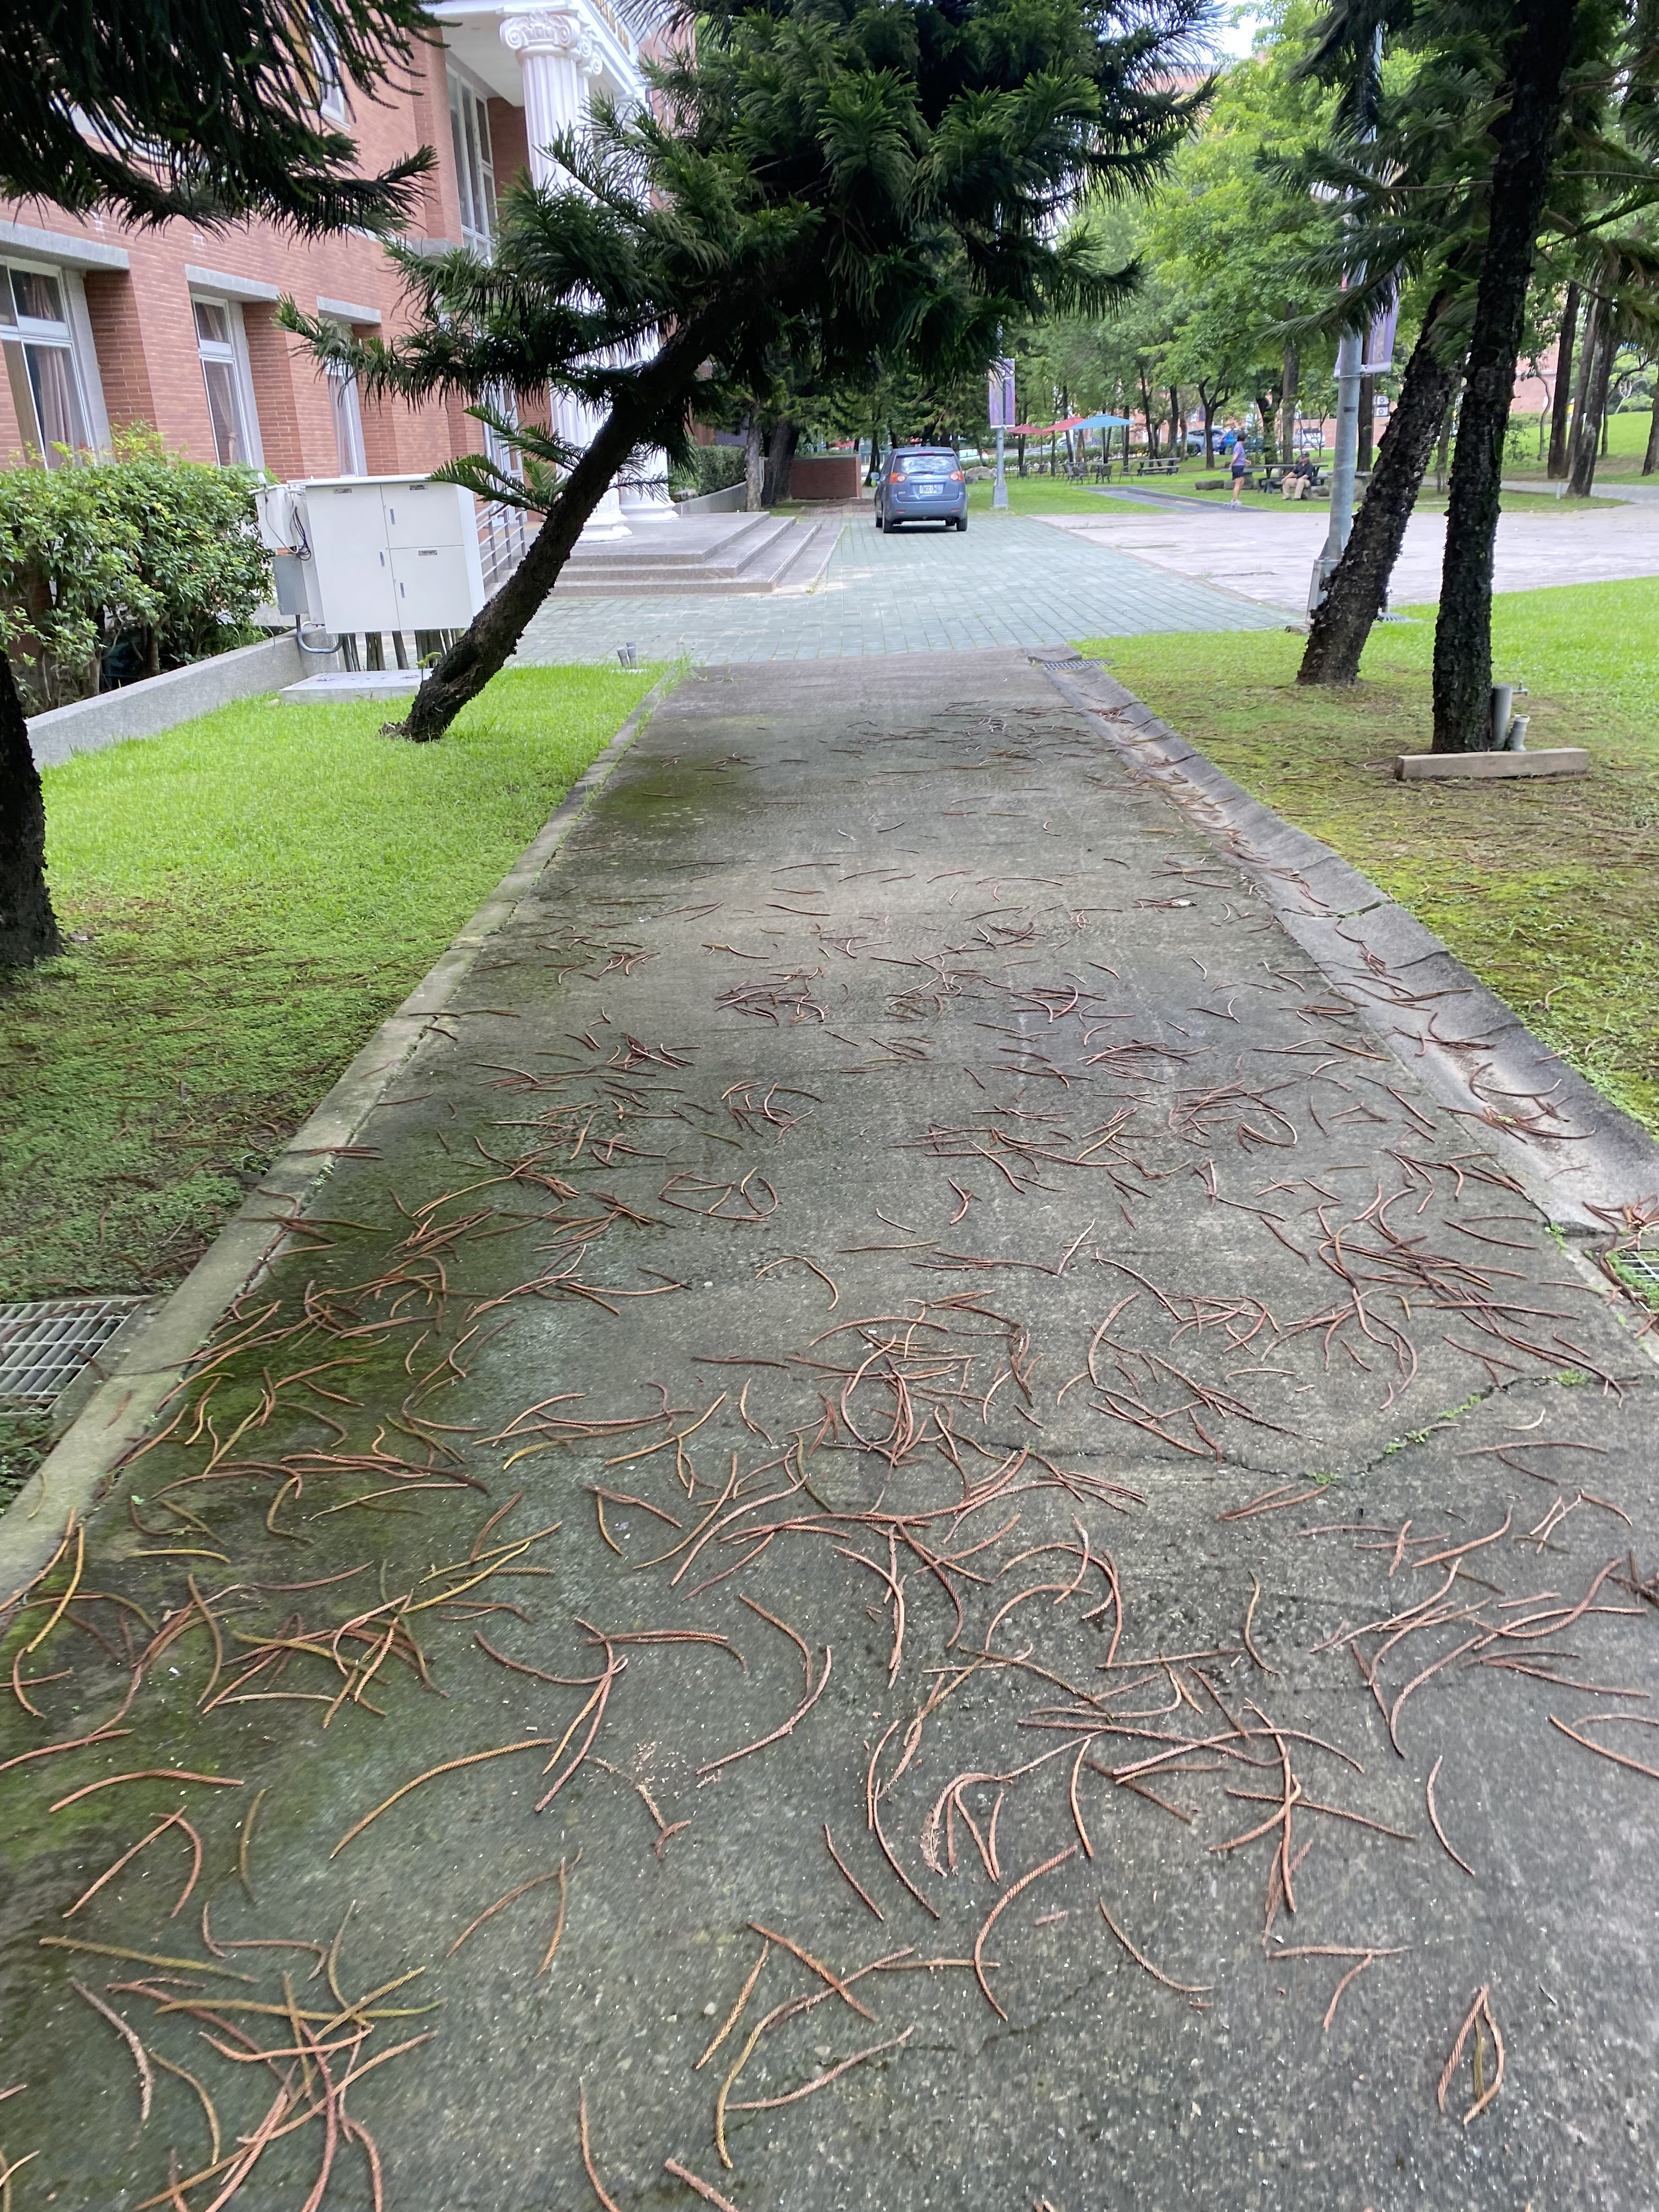0: (666, 463, 1155, 733)
sidewalk: (10, 655, 1659, 2212)
